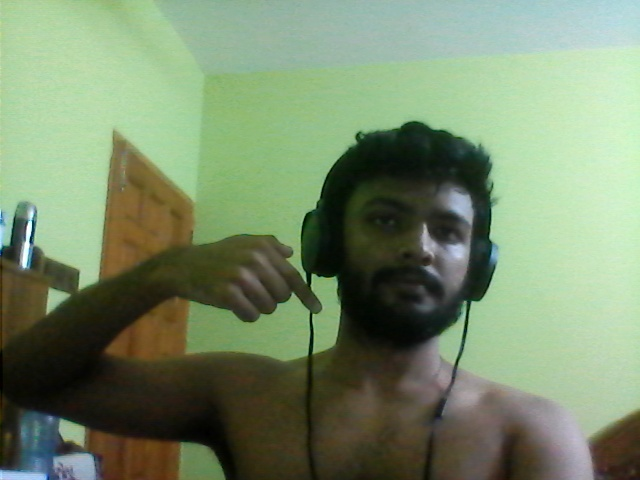I: (166, 216, 328, 344)
